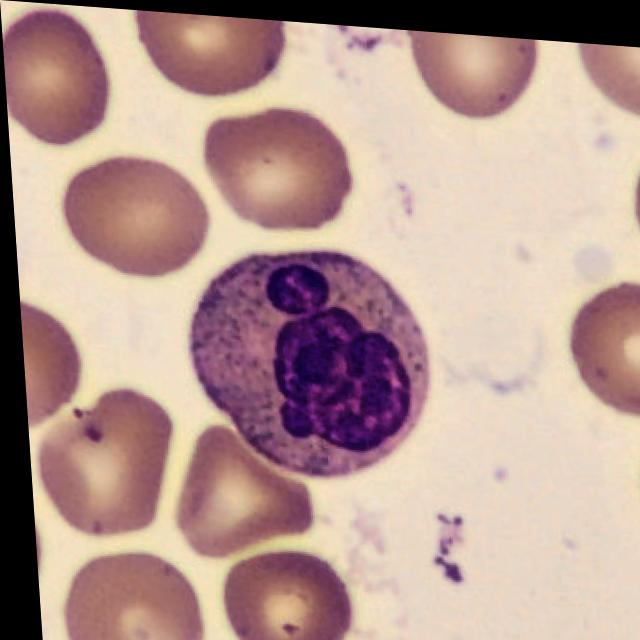Neutrofilo segmentado: (184, 246, 426, 474)
